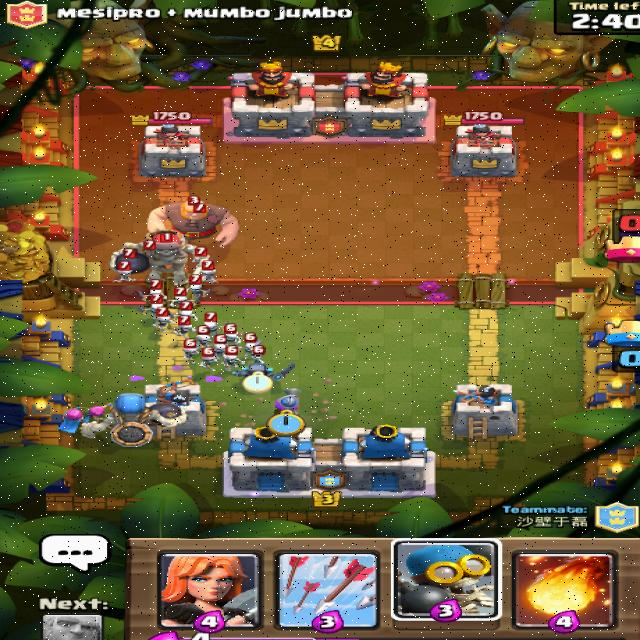Enemy-Giant: (143, 195, 241, 247)
Enemy-GiantSkeleton: (107, 227, 216, 287)
Enemy-Skeleton: (218, 344, 244, 372), (184, 272, 210, 298), (195, 347, 220, 373), (136, 293, 166, 314), (110, 261, 135, 284), (172, 314, 194, 339), (150, 306, 171, 330), (189, 258, 214, 278), (244, 345, 267, 364), (192, 324, 211, 347), (180, 338, 198, 362), (174, 299, 195, 318), (222, 322, 240, 344), (168, 285, 188, 302), (240, 332, 258, 350), (188, 246, 209, 260), (144, 279, 162, 295), (210, 332, 225, 351), (200, 310, 217, 326)
Player-Archer: (56, 402, 82, 435), (80, 401, 112, 424)
Player-GiantSkeleton: (76, 389, 188, 448)
Player-MiniPEKKA: (228, 361, 295, 380)
Player-Musketeer: (269, 387, 299, 416)
